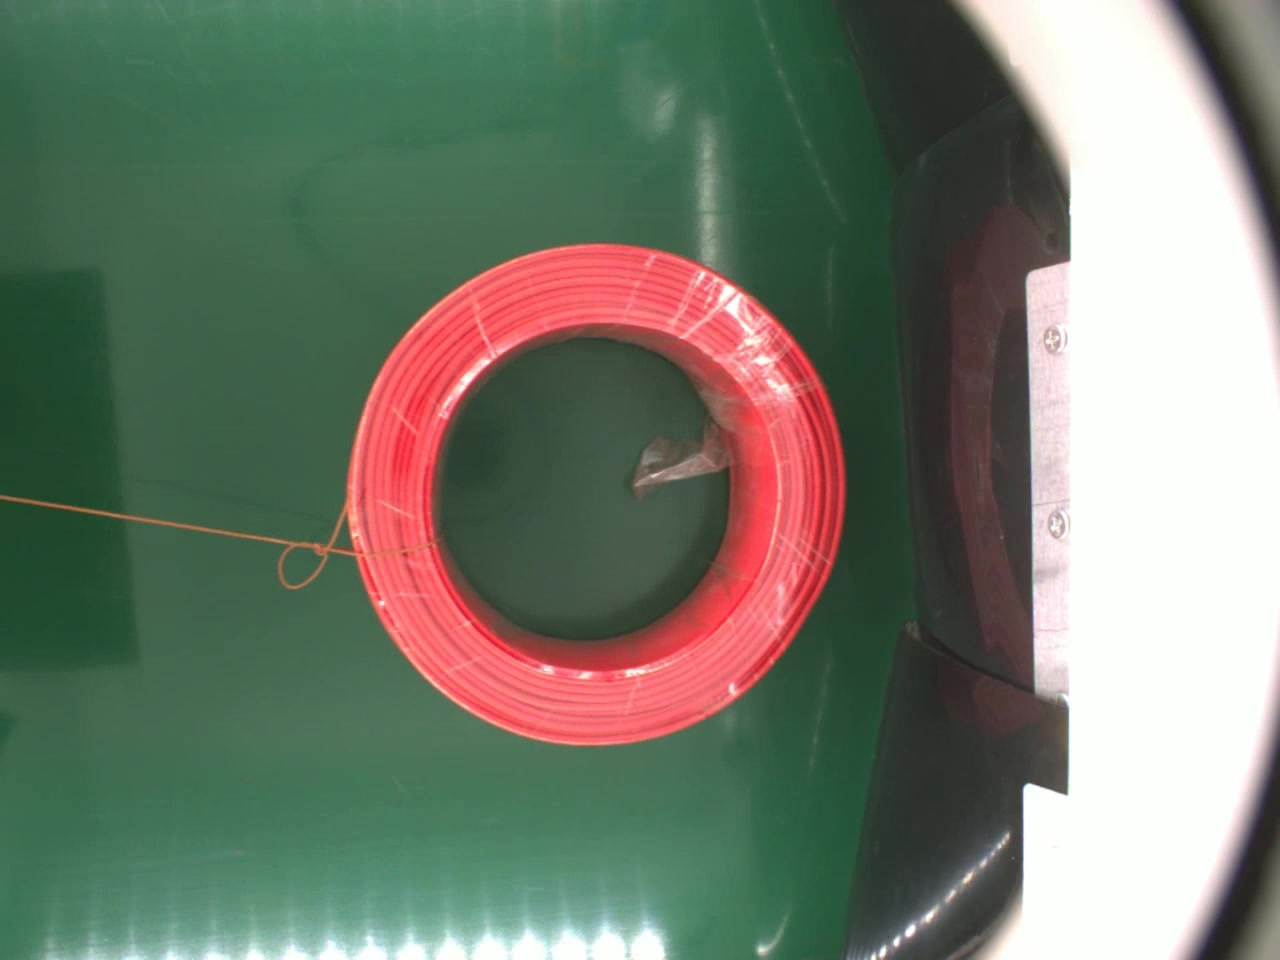red: (335, 235, 849, 754)
